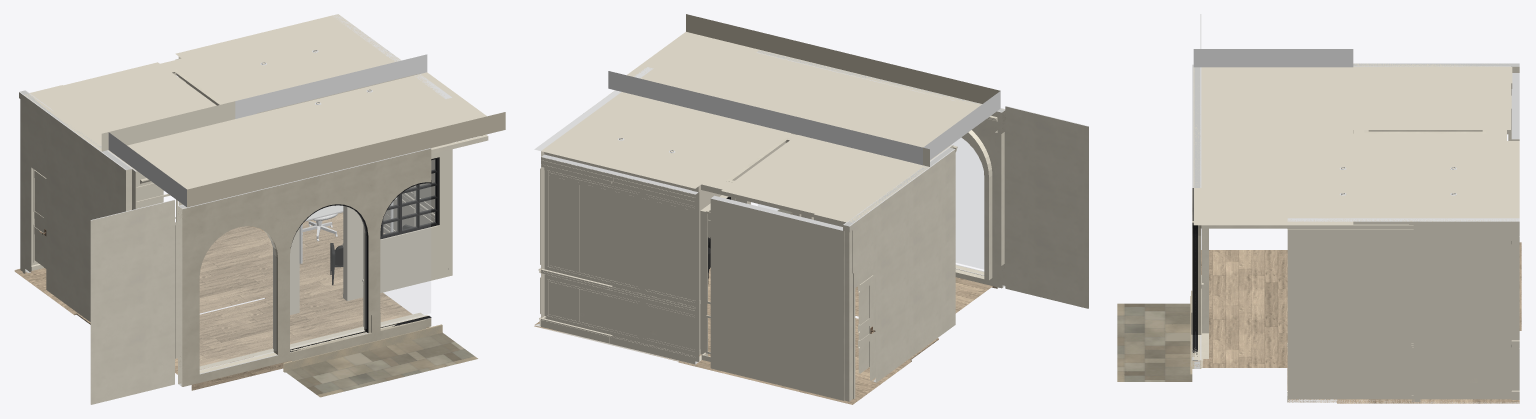
File: office-east-c5c7180bec97.glb
3 views of the same model, side by side, from view 1: azimuth 30°, elevation 25°; view 2: azimuth 150°, elevation 25°; view 3: azimuth 270°, elevation 25° (orthographic). The views are drawn at different scales.
Parts seen in each view (by area): view 1: office-east-look-dbd60ee5c3733ed6, office-east-look-c9e78b9ec1bb39cd, office-east-look-d5a4a1b5d3594c04, office-east-look-6a051330000fbca1, office-east-look-2575515a05775d9e, office-east-2575515a05775d9e, office-east-look-38561c12898e4d43, office-east-look-c02a36d0521470a9, office-east-look-c374268555806af8, office-east-7dc307bfa7ee071d, office-east-look-5cbcc744e6f960f3, office-east-look-982408871810a50e (+16 smaller); view 2: office-east-look-dbd60ee5c3733ed6, office-east-look-19647d6da46c2b80, office-east-19647d6da46c2b80, office-east-look-6a051330000fbca1, office-east-look-d5a4a1b5d3594c04, office-east-2575515a05775d9e, office-east-look-2575515a05775d9e, office-east-look-38561c12898e4d43, office-east-7b11e78295c2e11d, office-east-look-c9e78b9ec1bb39cd, office-east-look-0d8abb8bf9b53894, office-east-dbd60ee5c3733ed6 (+17 smaller); view 3: office-east-6a1144f4e43410bb, office-east-look-dbd60ee5c3733ed6, office-east-2575515a05775d9e, office-east-look-2575515a05775d9e, office-east-look-c374268555806af8, office-east-look-982408871810a50e, office-east-dbd60ee5c3733ed6, office-east-7dc307bfa7ee071d, office-east-look-c9e78b9ec1bb39cd, office-east-look-0d8abb8bf9b53894, office-east-19647d6da46c2b80, office-east-07b6babc03834d5e (+17 smaller).
Part boxes in pixels (x1,y1,x2,y2): office-east-look-dbd60ee5c3733ed6: [108, 54, 505, 207]; office-east-look-c9e78b9ec1bb39cd: [178, 148, 431, 386]; office-east-look-d5a4a1b5d3594c04: [90, 199, 174, 404]; office-east-look-6a051330000fbca1: [19, 90, 136, 321]; office-east-look-2575515a05775d9e: [24, 62, 235, 151]; office-east-2575515a05775d9e: [175, 14, 420, 113]; office-east-look-38561c12898e4d43: [200, 226, 276, 369]; office-east-look-c02a36d0521470a9: [290, 205, 366, 347]; office-east-look-c374268555806af8: [175, 292, 429, 390]; office-east-7dc307bfa7ee071d: [293, 97, 445, 313]; office-east-look-5cbcc744e6f960f3: [380, 183, 430, 324]; office-east-look-982408871810a50e: [283, 332, 477, 397]; office-east-look-dbd60ee5c3733ed6: [608, 14, 1000, 165]; office-east-look-19647d6da46c2b80: [710, 195, 842, 400]; office-east-19647d6da46c2b80: [541, 154, 699, 364]; office-east-look-6a051330000fbca1: [843, 144, 955, 401]; office-east-look-d5a4a1b5d3594c04: [1005, 106, 1088, 308]; office-east-2575515a05775d9e: [541, 92, 771, 188]; office-east-look-2575515a05775d9e: [721, 135, 929, 222]; office-east-look-38561c12898e4d43: [952, 138, 983, 269]; office-east-7b11e78295c2e11d: [692, 110, 808, 361]; office-east-look-c9e78b9ec1bb39cd: [756, 50, 1005, 288]; office-east-look-0d8abb8bf9b53894: [701, 129, 951, 226]; office-east-dbd60ee5c3733ed6: [615, 67, 807, 129]; office-east-6a1144f4e43410bb: [1287, 218, 1519, 402]; office-east-look-dbd60ee5c3733ed6: [1193, 49, 1353, 225]; office-east-2575515a05775d9e: [1353, 141, 1519, 221]; office-east-look-2575515a05775d9e: [1353, 63, 1510, 129]; office-east-look-c374268555806af8: [1192, 250, 1287, 367]; office-east-look-982408871810a50e: [1117, 303, 1192, 381]; office-east-dbd60ee5c3733ed6: [1287, 141, 1353, 221]; office-east-7dc307bfa7ee071d: [1287, 144, 1295, 399]; office-east-look-c9e78b9ec1bb39cd: [1192, 64, 1201, 368]; office-east-look-0d8abb8bf9b53894: [1353, 67, 1512, 140]; office-east-19647d6da46c2b80: [1511, 224, 1519, 390]; office-east-07b6babc03834d5e: [1295, 394, 1511, 399].
Size of the model in its own units: 7.25 by 3.46 by 6.07.
23 materials, 7 textured.
